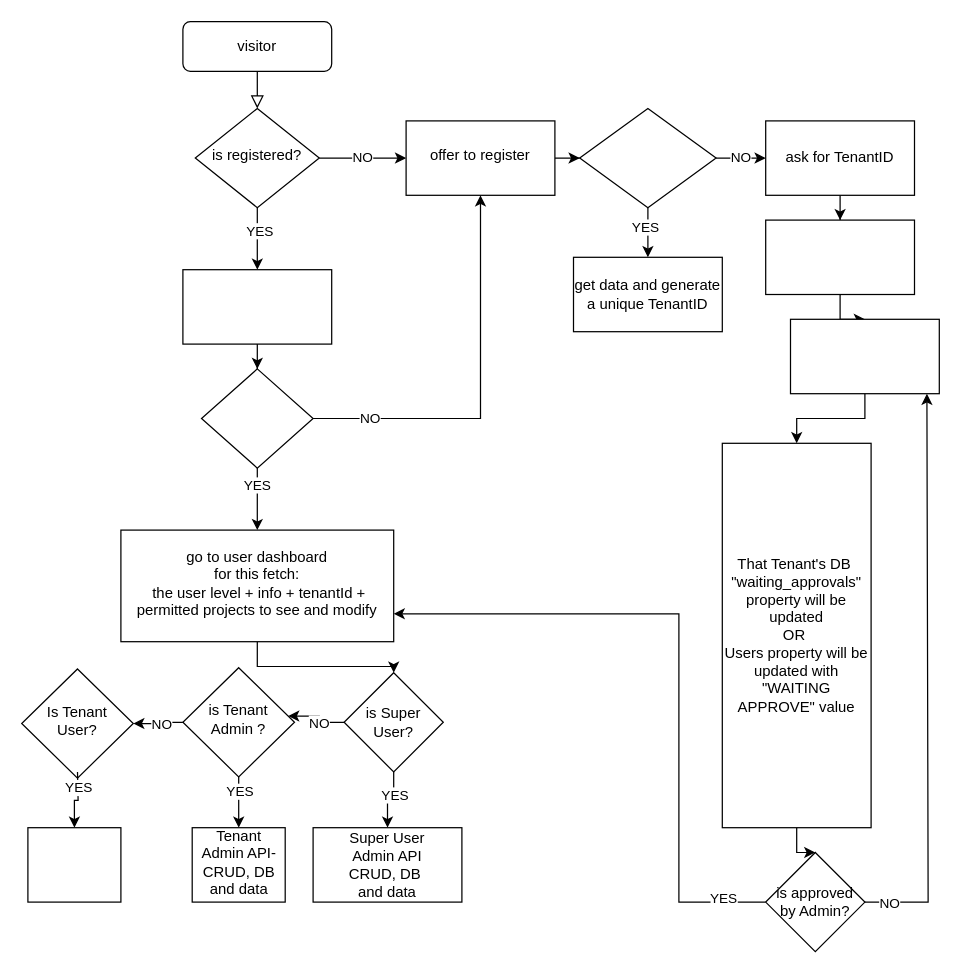
Image size: 961x973. Some labels were removed from this diagram. The centre of each missing label's shape, as x and y in pixels:
Display status to Demander (visitor): the point at 864,356
is logged in ?: the point at 256,418
is new Tenant company ?: the point at 647,157
offer login: the point at 257,306
Send Data, Inform THAT Tenat's Admin: the point at 839,256
User API CRUD, DB and data: the point at 74,864
